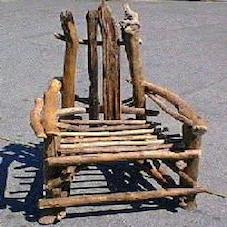chair: (14, 10, 212, 207)
